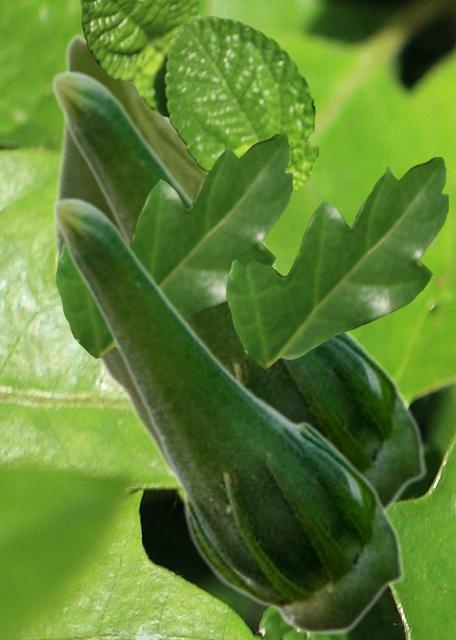okra: (50, 69, 426, 511), (51, 196, 404, 635), (52, 29, 282, 478)
